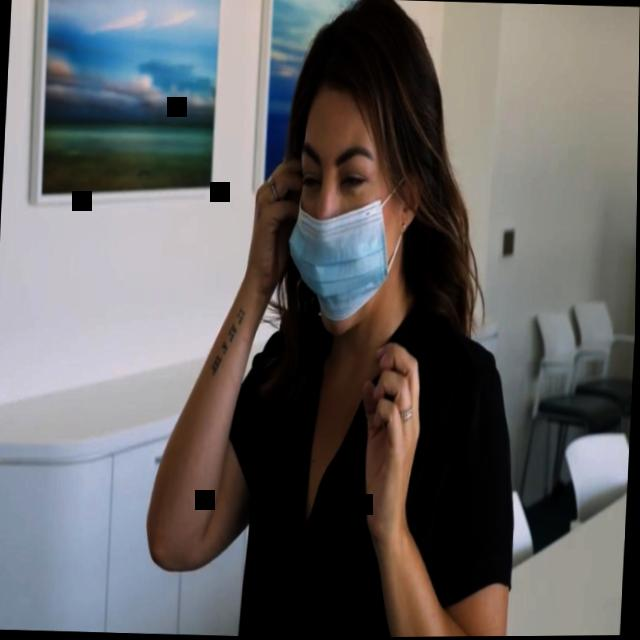NO-Mask: (284, 78, 412, 342)
